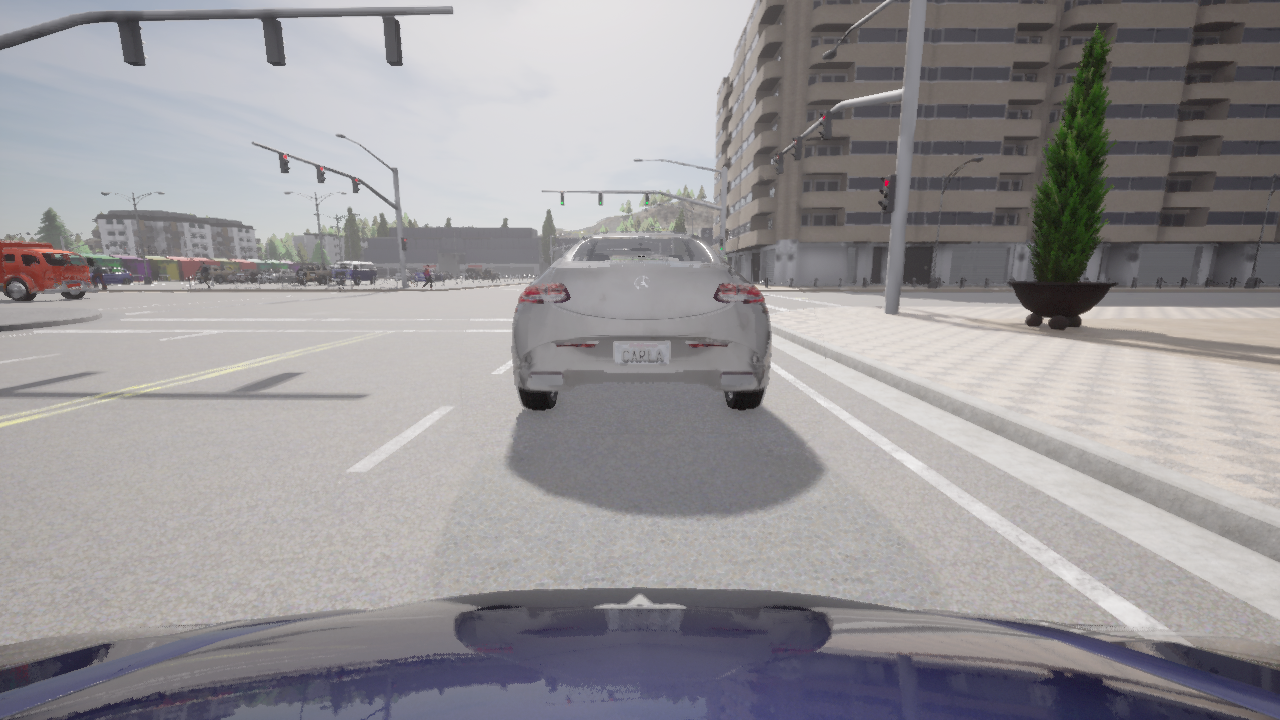cyclist: (0, 588, 1279, 719), (513, 231, 770, 410), (332, 261, 377, 284), (295, 264, 345, 284), (194, 265, 238, 283), (88, 267, 133, 284), (258, 269, 297, 283), (227, 269, 264, 283), (414, 268, 444, 281), (481, 268, 500, 279), (394, 270, 413, 280), (465, 268, 481, 279), (260, 267, 281, 273), (438, 271, 452, 279), (329, 265, 333, 266)
pedestrian: (92, 260, 105, 288), (421, 263, 433, 288), (202, 260, 211, 288), (338, 272, 345, 292), (407, 273, 415, 288)
